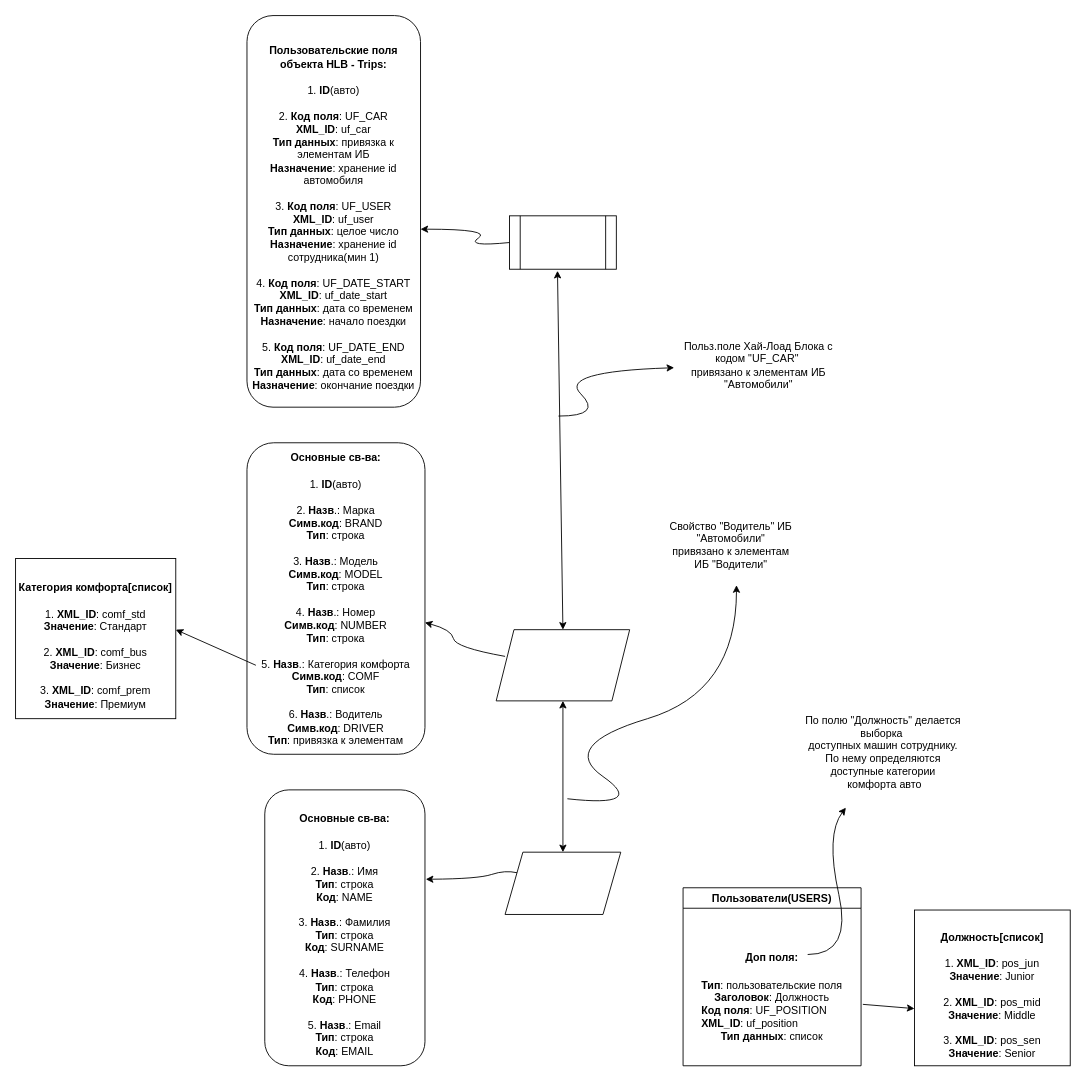
This 1086x1081 diagram has some shape labels left out. The shapes that lost their labels are listed below. From the top down, each one's centre as x and y in pixels, then its label:
At (x=562, y=242): "HLБ : Trips".
At (x=562, y=665): "ИБ : Автомобили Тип ИБ : Каталоги".
At (x=562, y=882): "ИБ : Водители Тип ИБ : Каталоги".
